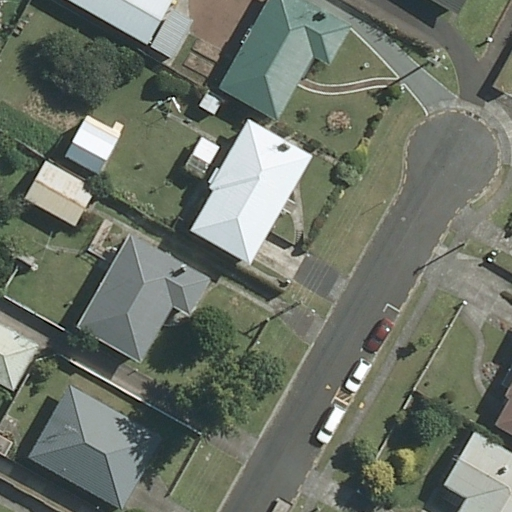DT: (430, 51, 446, 74), (291, 292, 308, 312), (455, 238, 472, 257)
